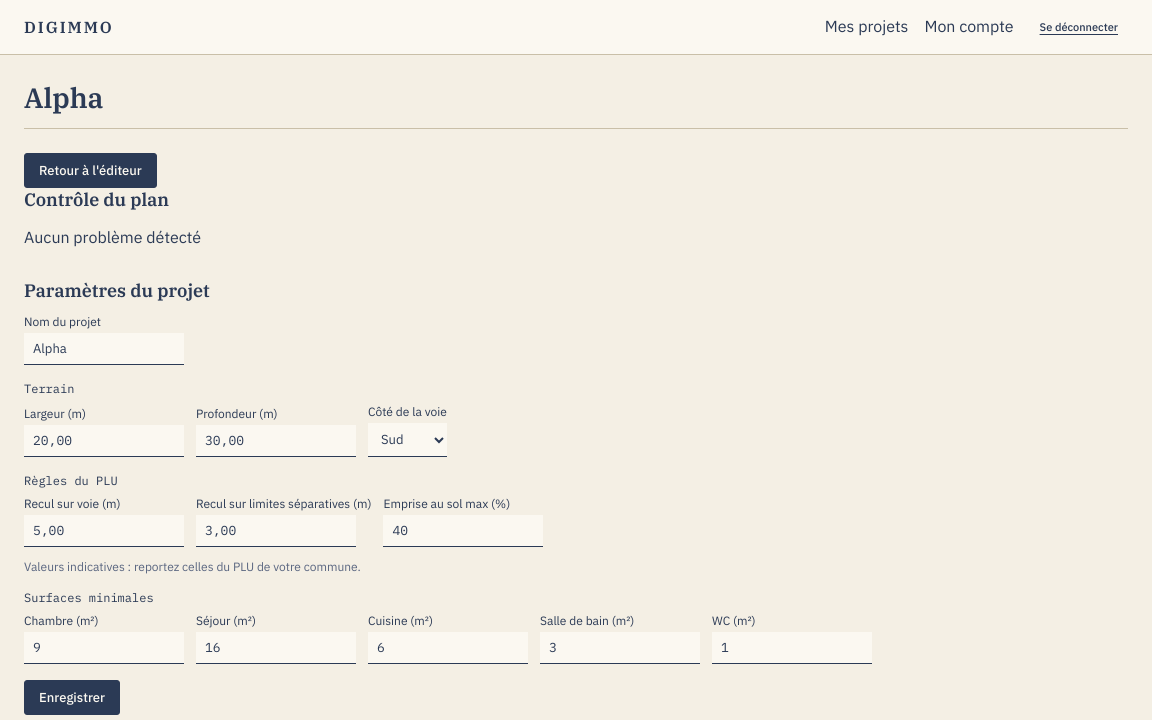
Test: page paramètres du projet › après le succès, une actualisation ultérieure du projet ne vole pas le focus
The image size is (1152, 720).
Replace the text in the field labelled "Recul sur voie (m)" with "6" at coordinates (104, 531), box x1=24 y1=515 x2=184 y2=547
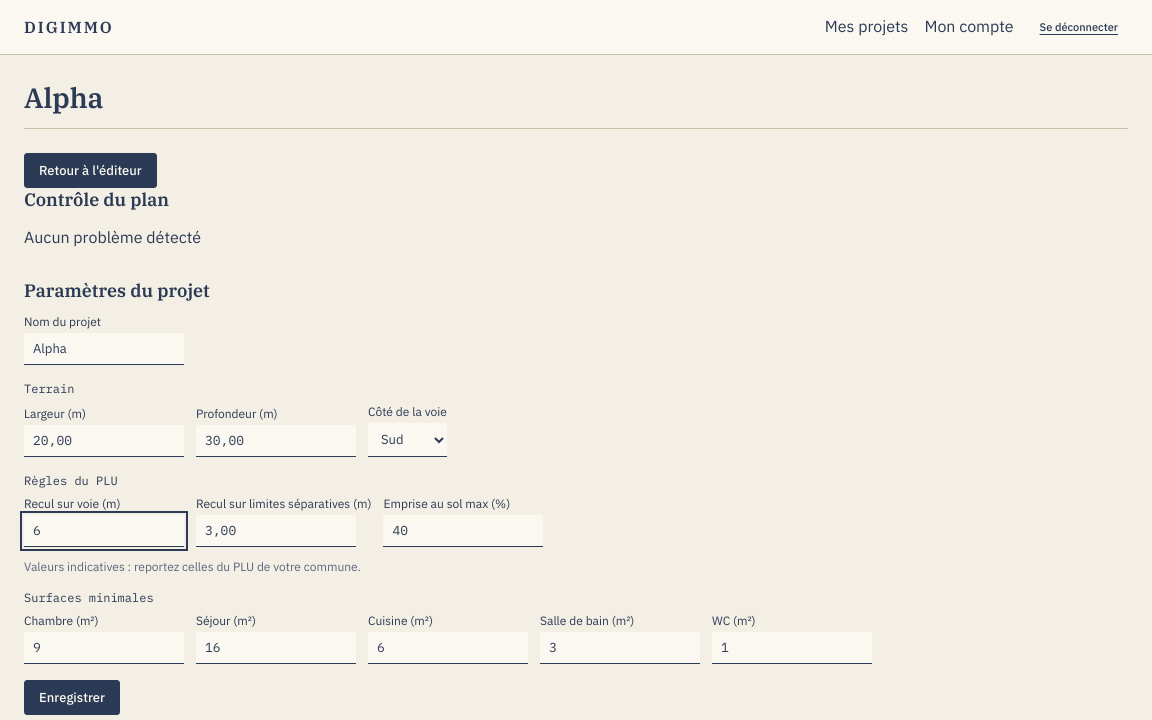
Click the button "Enregistrer".
click(72, 698)  # box x1=24 y1=680 x2=120 y2=715
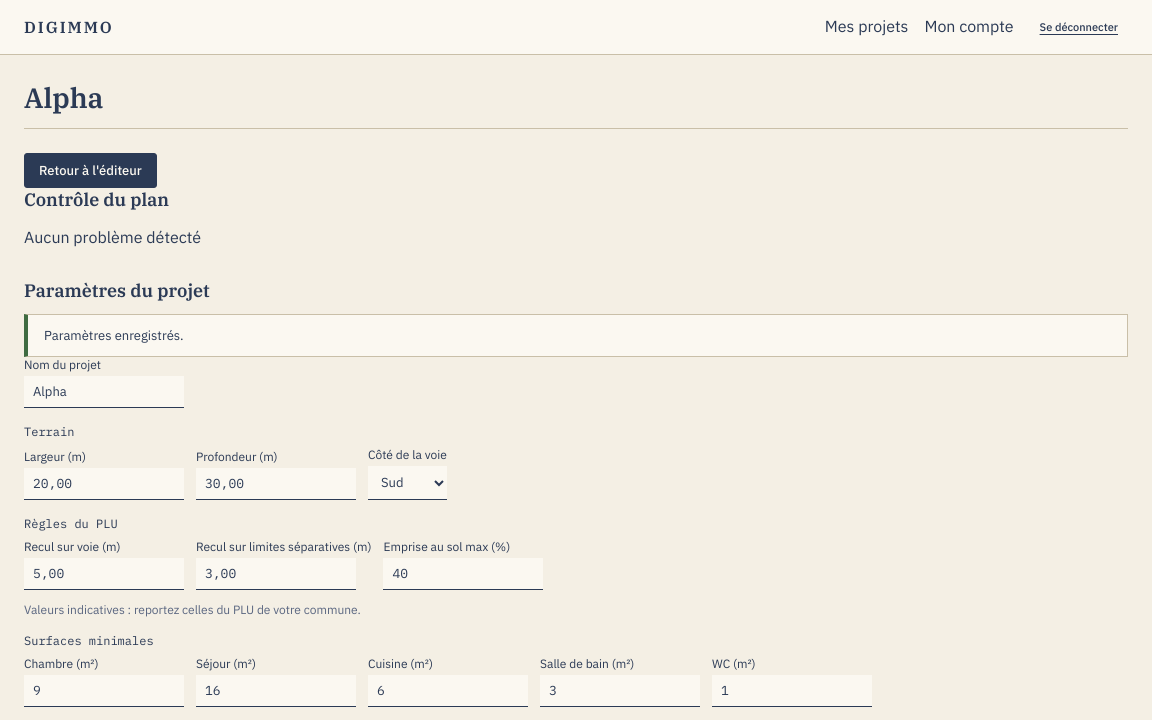
Result: the field labelled "Nom du projet" is shown at x1=24 y1=376 x2=184 y2=408
